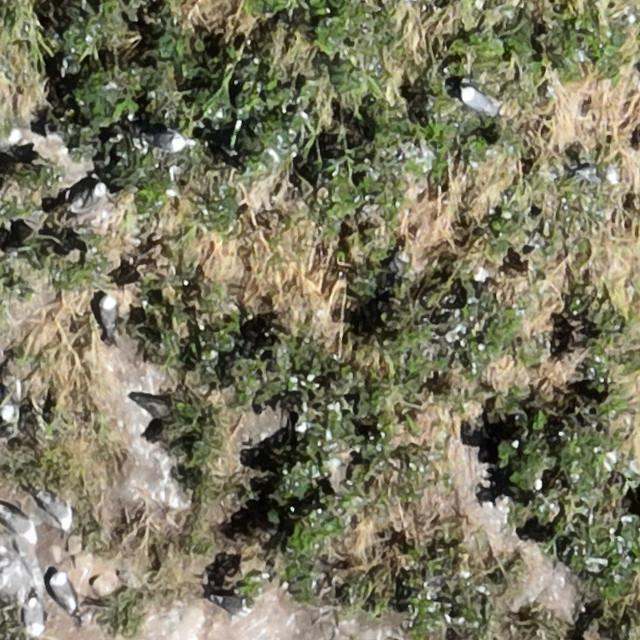umineko: (146, 124, 186, 152), (72, 179, 108, 209), (42, 496, 72, 527), (51, 574, 75, 610), (462, 88, 494, 114), (24, 598, 43, 636), (99, 295, 118, 331)
